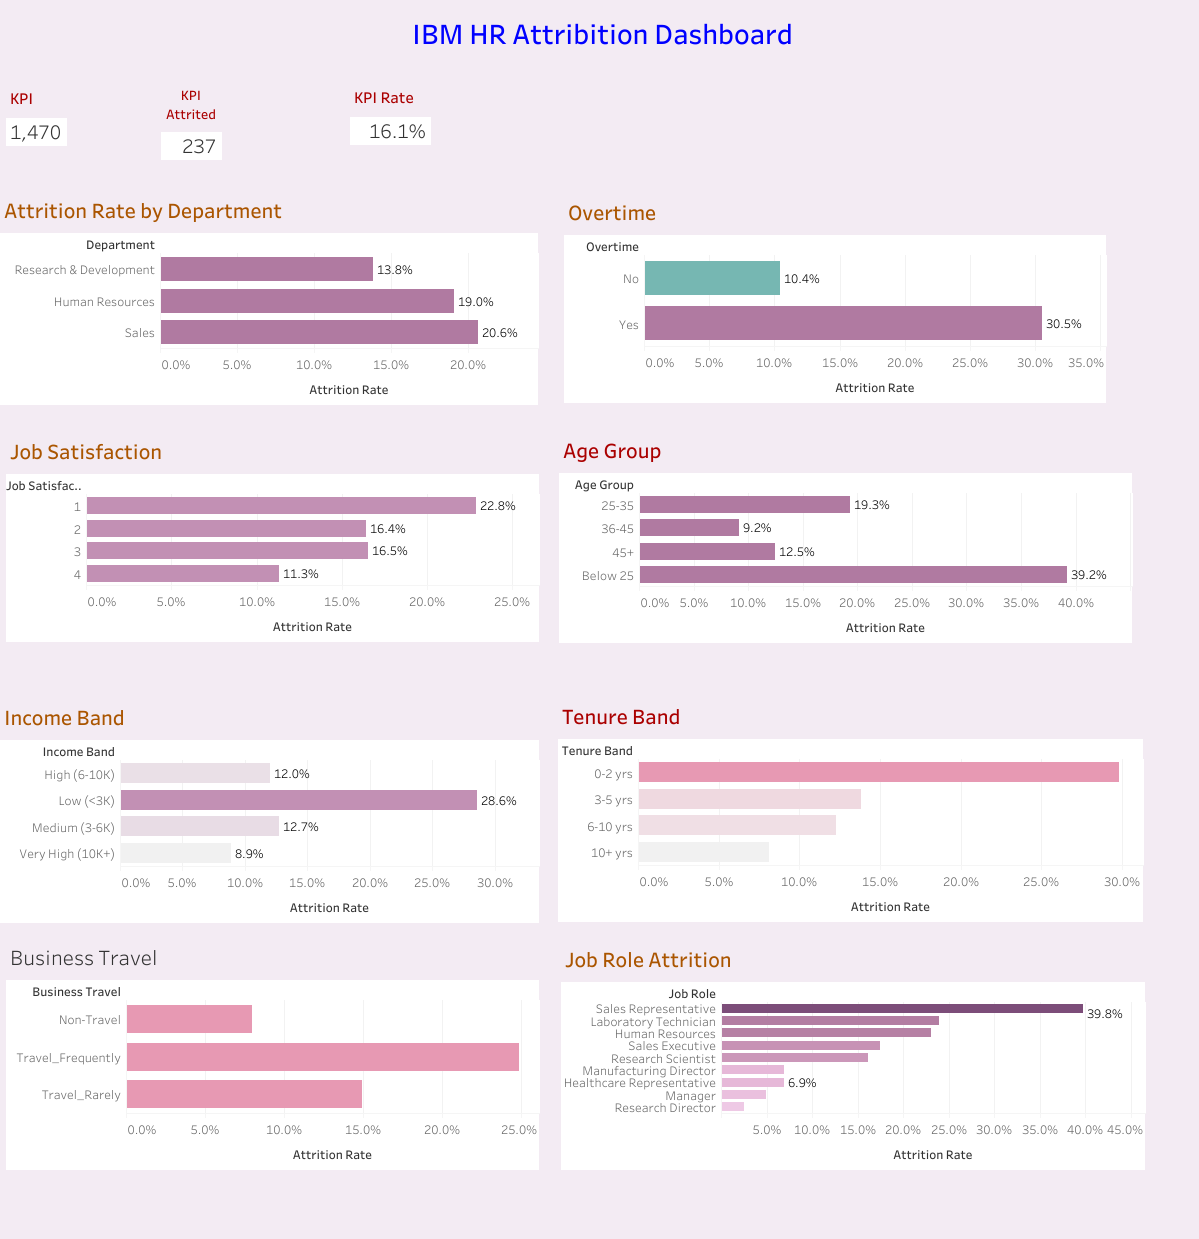

The page's visual inventory and layout, read from the dashboard file:
{"tool":"tableau","page":{"name":"Dashboard 1","canvas":[1200,1800],"ordinal":0},"visuals":[{"type":"text","box":[5,6,1195,54]},{"type":"worksheet","title":"KPI Attrited","mark":"Automatic","box":[161,79,159,80]},{"type":"worksheet","title":"KPI Rate","mark":"Automatic","box":[350,80,157,77]},{"type":"worksheet","title":"KPI","mark":"Automatic","box":[6,81,133,76]},{"type":"worksheet","title":"Dept Attrition","mark":"Automatic","rows":["department"],"cols":["Calculation_0431070647963650"],"box":[0,190,538,215]},{"type":"worksheet","title":"Overtime","mark":"Bar","rows":["overtime"],"cols":["Calculation_0431070647963650"],"box":[564,192,542,211]},{"type":"worksheet","title":"Age Group","mark":"Bar","rows":["Calculation_0431070655770627"],"cols":["Calculation_0431070647963650"],"box":[559,430,573,213]},{"type":"worksheet","title":"Job Satisfaction","mark":"Automatic","rows":["job_satisfaction"],"cols":["Calculation_0431070647963650"],"box":[6,431,533,211]},{"type":"worksheet","title":"Tenure Band","mark":"Automatic","rows":["Calculation_0431070658576389"],"cols":["Calculation_0431070647963650"],"box":[558,696,585,226]},{"type":"worksheet","title":"Income Band","mark":"Bar","rows":["Calculation_0431070657171460"],"cols":["Calculation_0431070647963650"],"box":[0,697,539,226]},{"type":"worksheet","title":"Business Travel","mark":"Automatic","rows":["business_travel"],"cols":["Calculation_0431070647963650"],"box":[6,937,533,233]},{"type":"worksheet","title":"Job Role Attrition","mark":"Bar","rows":["job_role"],"cols":["Calculation_0431070647963650"],"box":[561,939,584,231]}]}

Visuals, with their boxes on the page's 1200x1800 design canvas (x1, y1, x2, y2). These are canvas units, not pixel positions in the 1199x1239 screenshot, which may show the page scaled, cropped or inside an application window:
text: rect(5, 6, 1200, 60)
"KPI Attrited" worksheet: rect(161, 79, 320, 159)
"KPI Rate" worksheet: rect(350, 80, 507, 157)
"KPI" worksheet: rect(6, 81, 139, 157)
"Dept Attrition" worksheet: rect(0, 190, 538, 405)
"Overtime" worksheet (Bar marks): rect(564, 192, 1106, 403)
"Age Group" worksheet (Bar marks): rect(559, 430, 1132, 643)
"Job Satisfaction" worksheet: rect(6, 431, 539, 642)
"Tenure Band" worksheet: rect(558, 696, 1143, 922)
"Income Band" worksheet (Bar marks): rect(0, 697, 539, 923)
"Business Travel" worksheet: rect(6, 937, 539, 1170)
"Job Role Attrition" worksheet (Bar marks): rect(561, 939, 1145, 1170)
